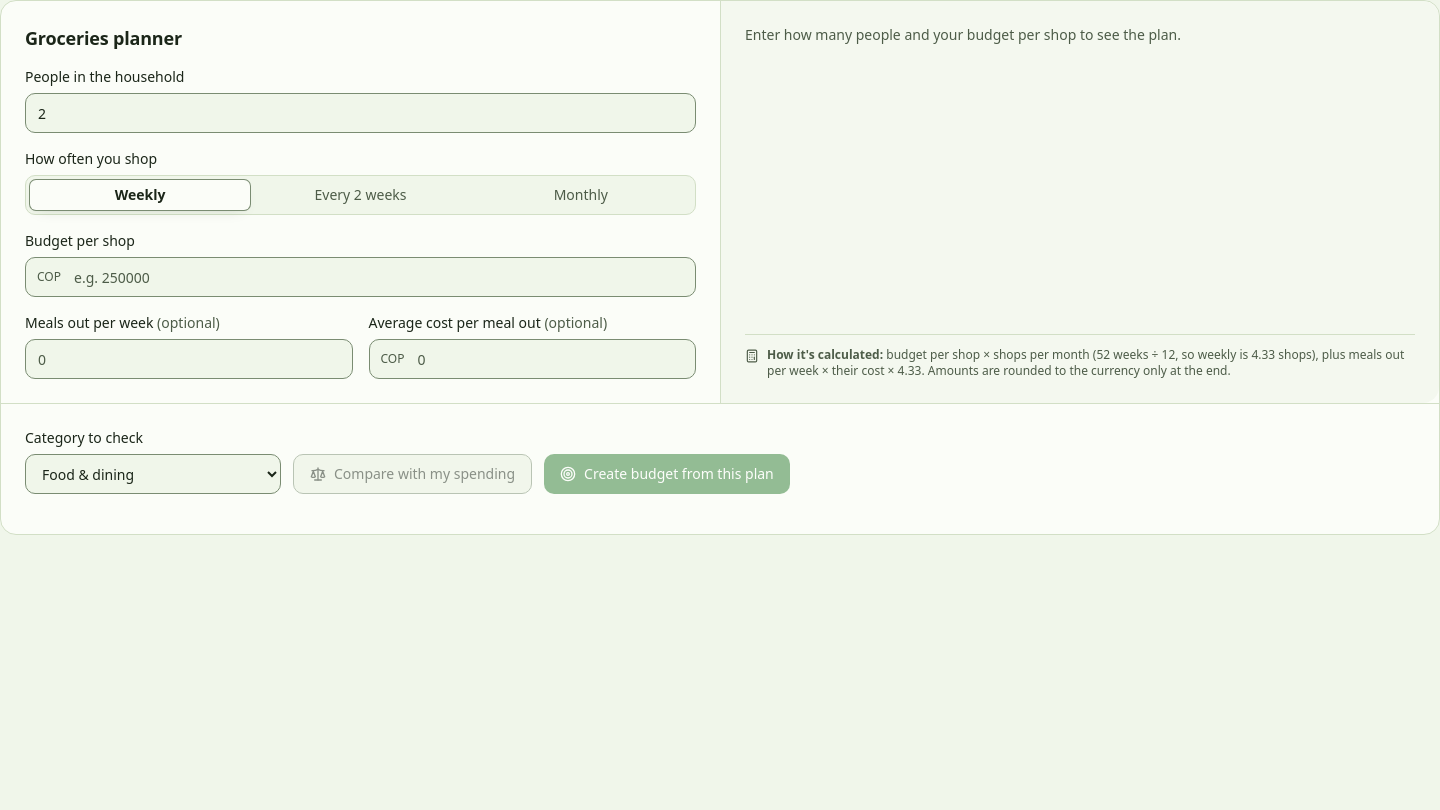
Test: GroceriesCalculator › opens the budget form prefilled with the category and monthly amount
In the number field labelled "Budget per shop": (360, 277) [25,257,696,297], type "250000"
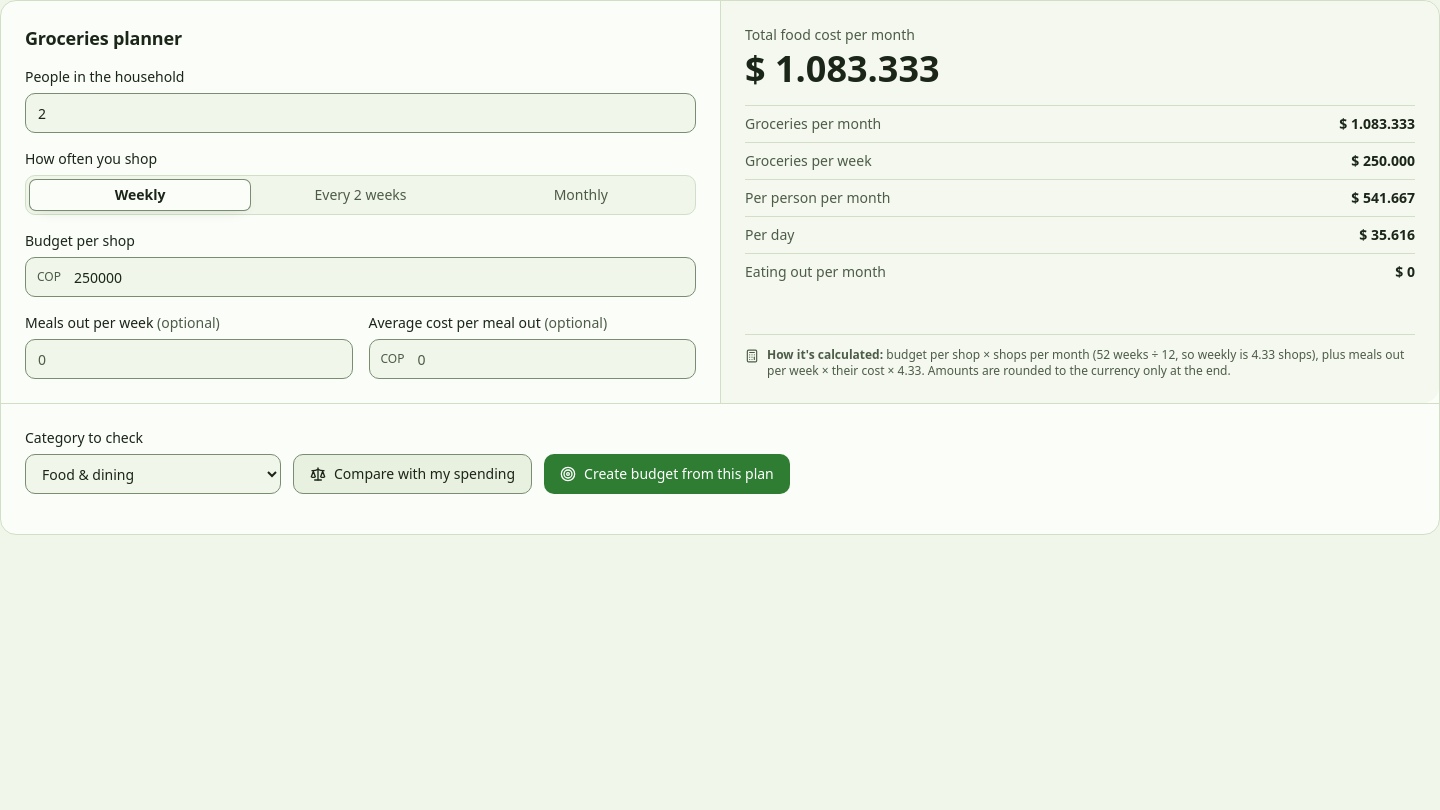
Click the button "Create budget from this plan": (667, 474) [544,454,790,494]
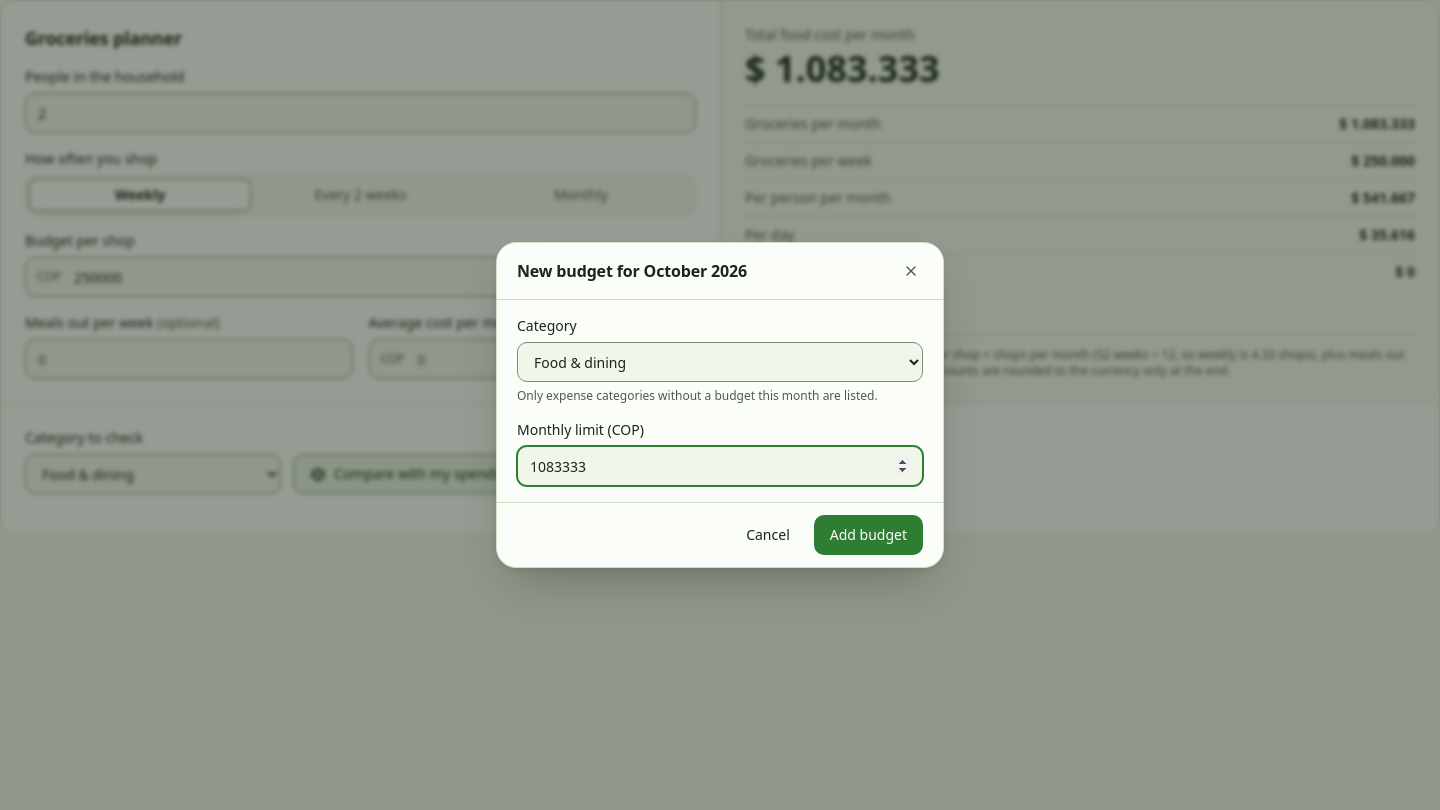
Check: the dropdown labelled "Category" shows "Food & dining", box [517,342,923,382]
Check: the number field labelled "Monthly limit (COP)" holds "1083333", box [517,446,923,486]
Click the button "Add budget": (868, 535) [814,515,923,555]
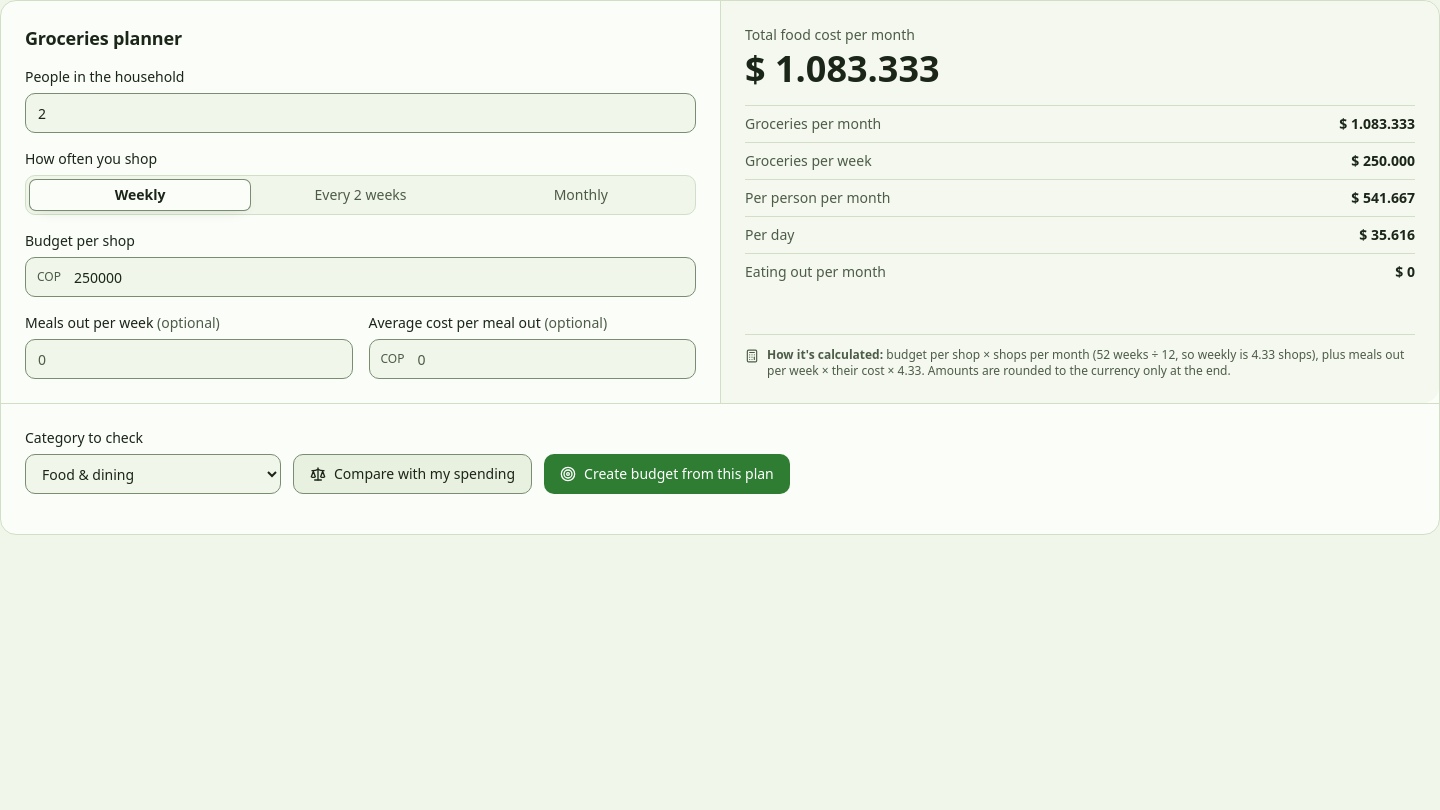
Check: the dialog is gone
